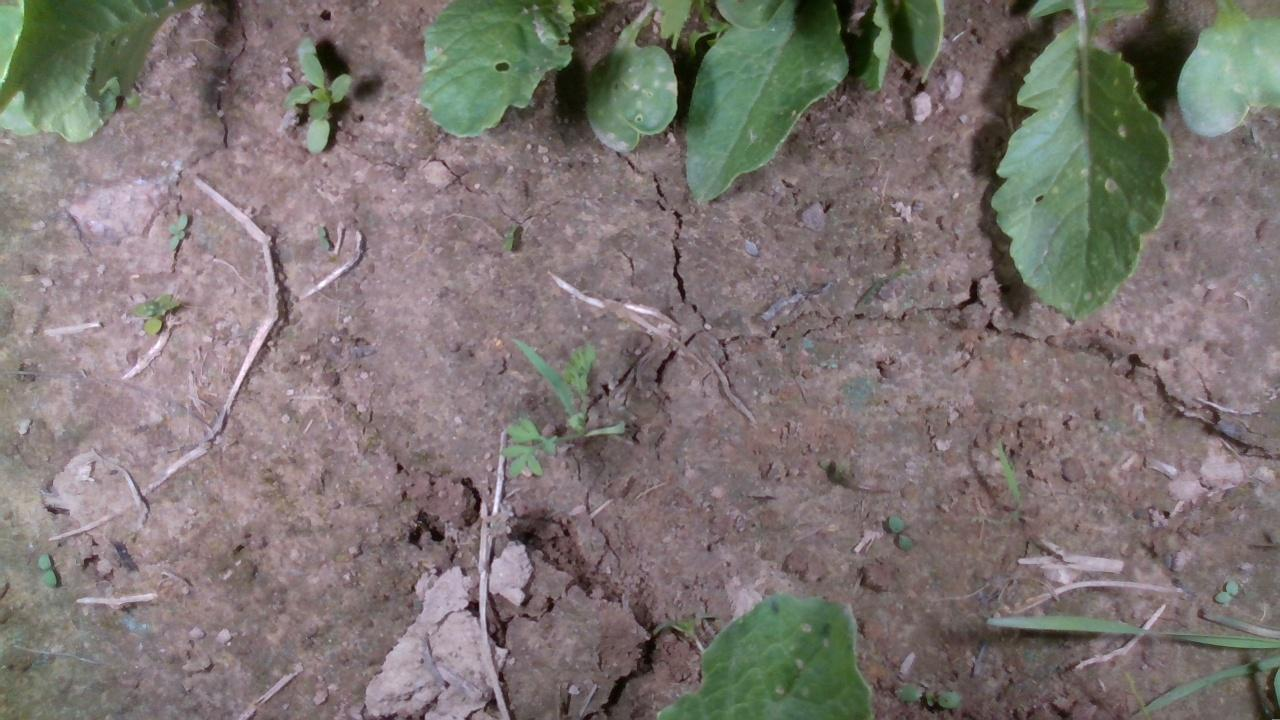weed: (125, 290, 180, 336), (894, 680, 960, 709), (887, 512, 912, 551), (166, 210, 187, 250), (36, 551, 57, 587), (1212, 578, 1238, 603), (315, 225, 329, 251)
